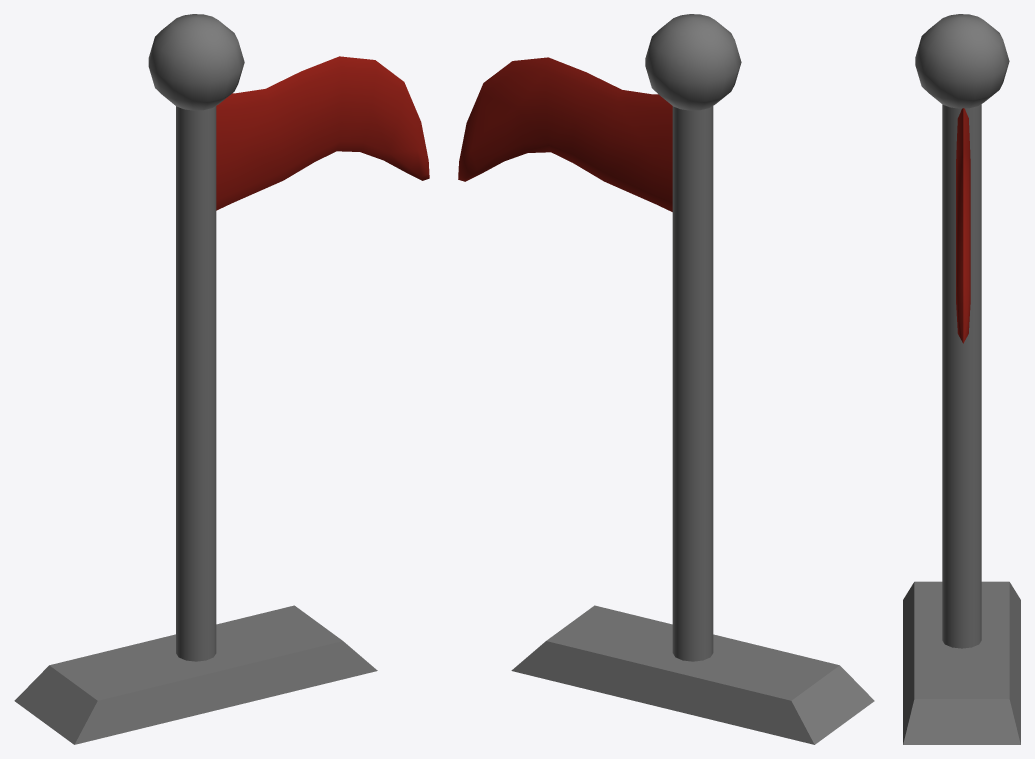
Rendered from Goal_Flag.gltf.
3 views of the same model, side by side, from view 1: azimuth 30°, elevation 25°; view 2: azimuth 150°, elevation 25°; view 3: azimuth 270°, elevation 25° (orthographic). The views are drawn at different scales.
Parts seen in each view (by area): view 1: Goal_Flag; view 2: Goal_Flag; view 3: Goal_Flag.
Part boxes in pixels (x1=…): Goal_Flag: x1=14, y1=14, x2=429, y2=744; Goal_Flag: x1=458, y1=14, x2=874, y2=744; Goal_Flag: x1=903, y1=14, x2=1020, y2=744.
Bounding box in the file's own units: 1.41 × 2.33 × 0.3804.
